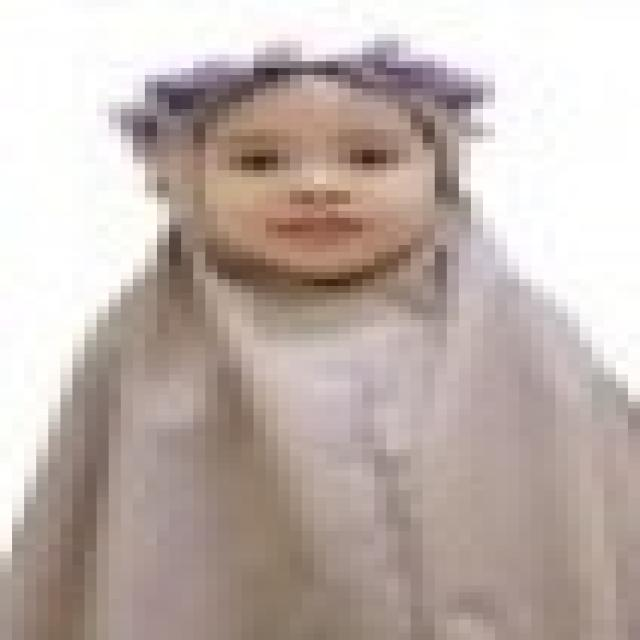head: (120, 46, 506, 288)
